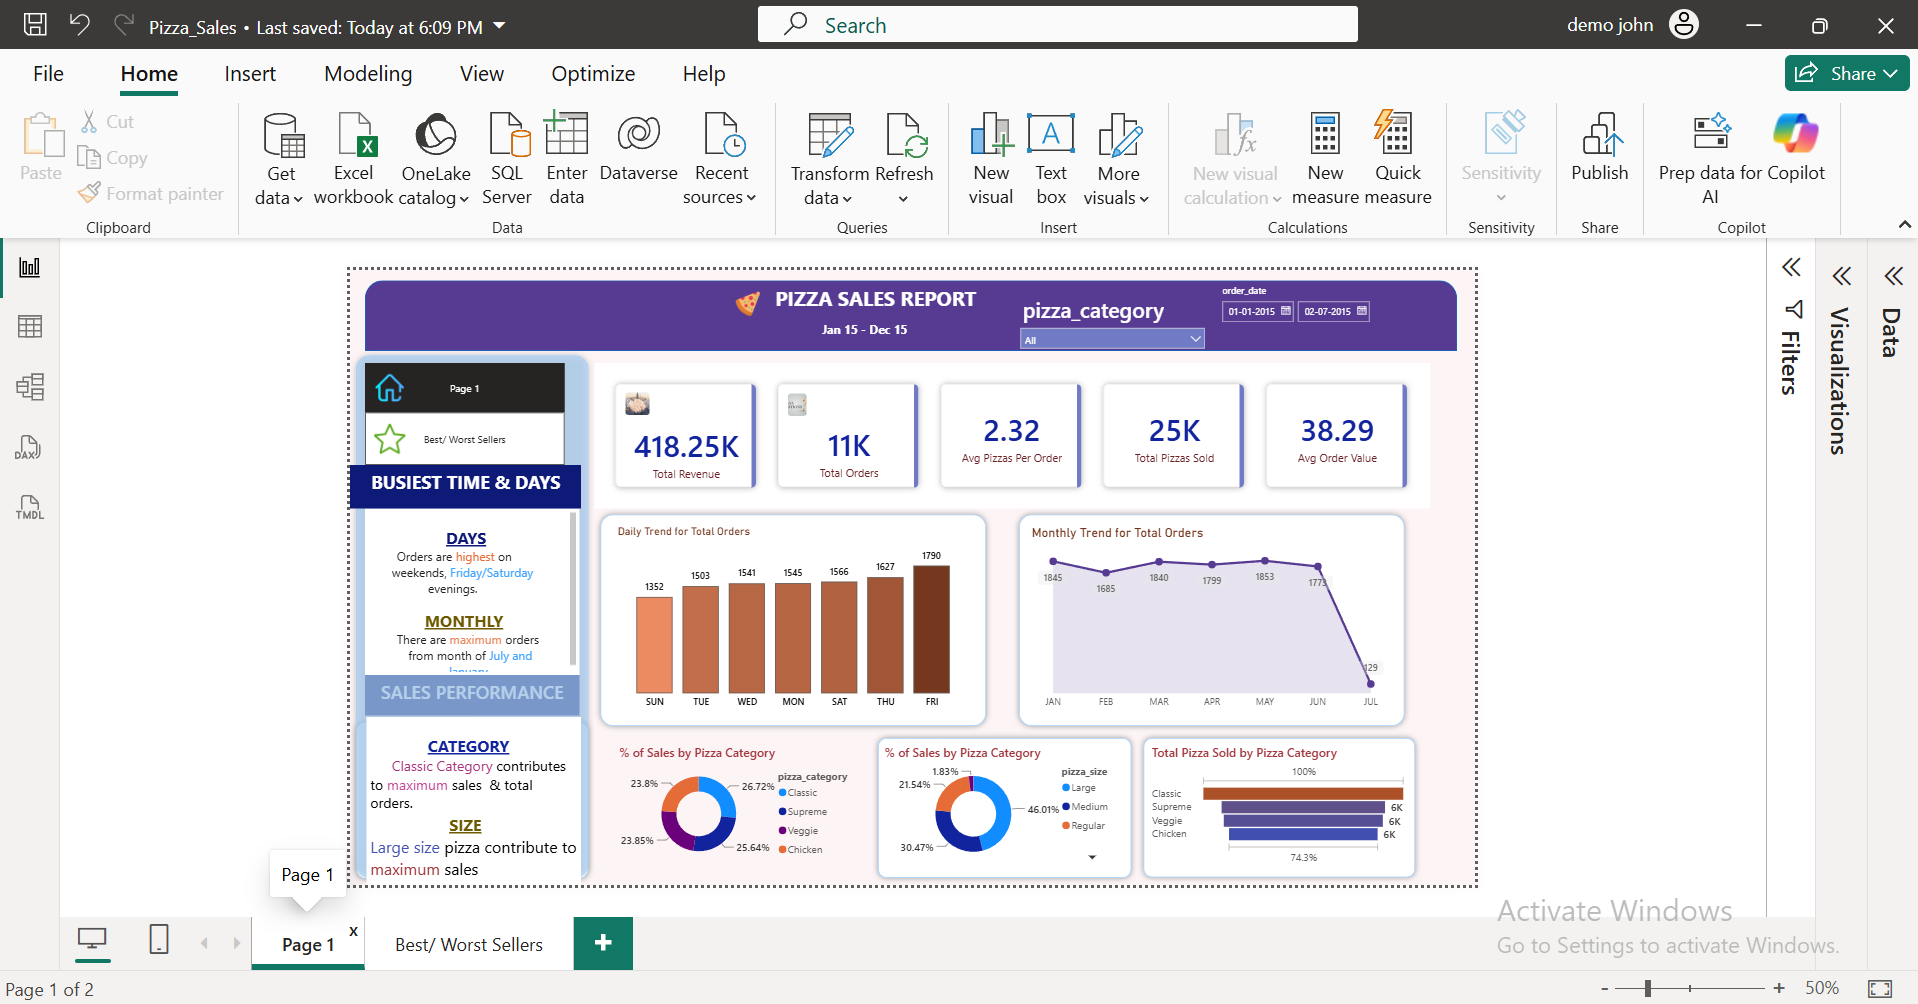

The dashboard page shown, as its layout file describes it:
{"tool":"powerbi","page":{"name":"Page 1","canvas":[1500,820],"ordinal":0},"visuals":[{"type":"cardVisual","fields":{"Data":["pizza_sales.Total Revenue","pizza_sales.Total Orders","pizza_sales.Avg Pizzas Per Order","pizza_sales.Total Pizzas Sold","pizza_sales.Avg Order Value"]},"box":[326,124,1114,194],"z":0},{"type":"shape","box":[20,14,1456,94],"z":1000},{"type":"textbox","box":[562,14,294,64],"z":2000},{"type":"textbox","box":[624,62,142,46],"z":3000},{"type":"image","box":[512,28,36,34],"z":4000},{"type":"shape","box":[326,318,530,298],"z":5000},{"type":"columnChart","title":"Daily Trend for Total Orders","fields":{"Category":["pizza_sales.Order Day"],"Y":["pizza_sales.Total Orders"]},"box":[352,340,478,254],"z":6000},{"type":"shape","box":[884,318,530,298],"z":7000},{"type":"areaChart","title":"Monthly Trend for Total Orders","fields":{"Category":["pizza_sales.Order Month"],"Y":["pizza_sales.Total Orders"]},"box":[904,340,490,254],"z":8000},{"type":"shape","box":[0,594,326,226],"z":9000},{"type":"shape","box":[695,615,353.8,202.5],"z":10000},{"type":"shape","box":[1049.1,615.5,378.2,201.8],"z":11000},{"type":"donutChart","title":"% of Sales by Pizza Category","fields":{"Category":["pizza_sales.pizza_category"],"Y":["pizza_sales.Total Revenue"]},"box":[354.3,632.9,321.4,164.3],"z":12000},{"type":"donutChart","title":"% of Sales by Pizza Category","fields":{"Category":["pizza_sales.pizza_size"],"Y":["pizza_sales.Total Revenue"]},"box":[708.6,632.9,325.7,164.3],"z":13000},{"type":"funnel","title":"Total Pizza Sold by Pizza Category","fields":{"Category":["pizza_sales.pizza_category"],"Y":["pizza_sales.Total Pizzas Sold"]},"box":[1063.6,632.7,350,164.5],"z":14000},{"type":"textbox","box":[20,540,286,54],"z":15000},{"type":"shape","box":[0,106,326,712],"z":16000},{"type":"textbox","box":[20,318,286,222],"z":17000},{"type":"textbox","box":[0,260,308,58],"z":18000},{"type":"textbox","box":[22,596,286,224],"z":19000},{"type":"slicer","fields":{"Values":["pizza_sales.pizza_category"]},"box":[884,28,266,78],"z":20000},{"type":"slicer","fields":{"Values":["pizza_sales.order_date"]},"box":[1150,14,244,72],"z":21000},{"type":"pageNavigator","box":[20,124,266,66],"z":22000},{"type":"pageNavigator","box":[20,190,266,70],"z":23000},{"type":"image","box":[20,138,66,38],"z":24000},{"type":"image","box":[20,204,66,42],"z":25000}]}

Visuals, with their boxes on the page's 1500x820 design canvas (x1, y1, x2, y2). These are canvas units, not pixel positions in the 1918x1004 screenshot, which may show the page scaled, cropped or inside an application window:
cardVisual - pizza_sales.Total Revenue x pizza_sales.Total Orders: (left=326, top=124, right=1440, bottom=318)
shape: (left=20, top=14, right=1476, bottom=108)
textbox: (left=562, top=14, right=856, bottom=78)
textbox: (left=624, top=62, right=766, bottom=108)
image: (left=512, top=28, right=548, bottom=62)
shape: (left=326, top=318, right=856, bottom=616)
"Daily Trend for Total Orders" columnChart: (left=352, top=340, right=830, bottom=594)
shape: (left=884, top=318, right=1414, bottom=616)
"Monthly Trend for Total Orders" areaChart: (left=904, top=340, right=1394, bottom=594)
shape: (left=0, top=594, right=326, bottom=820)
shape: (left=695, top=615, right=1049, bottom=818)
shape: (left=1049, top=616, right=1427, bottom=817)
"% of Sales by Pizza Category" donutChart: (left=354, top=633, right=676, bottom=797)
"% of Sales by Pizza Category" donutChart: (left=709, top=633, right=1034, bottom=797)
"Total Pizza Sold by Pizza Category" funnel: (left=1064, top=633, right=1414, bottom=797)
textbox: (left=20, top=540, right=306, bottom=594)
shape: (left=0, top=106, right=326, bottom=818)
textbox: (left=20, top=318, right=306, bottom=540)
textbox: (left=0, top=260, right=308, bottom=318)
textbox: (left=22, top=596, right=308, bottom=820)
slicer - pizza_sales.pizza_category: (left=884, top=28, right=1150, bottom=106)
slicer - pizza_sales.order_date: (left=1150, top=14, right=1394, bottom=86)
pageNavigator: (left=20, top=124, right=286, bottom=190)
pageNavigator: (left=20, top=190, right=286, bottom=260)
image: (left=20, top=138, right=86, bottom=176)
image: (left=20, top=204, right=86, bottom=246)
